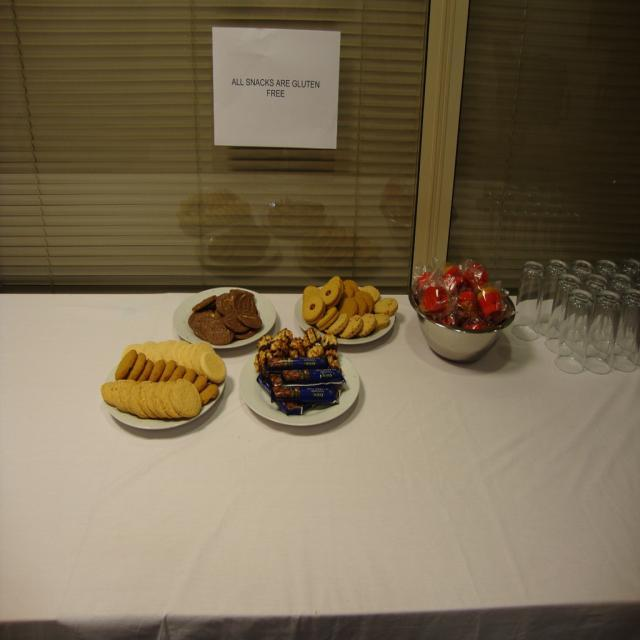ceramic plate: (234, 326, 368, 444)
